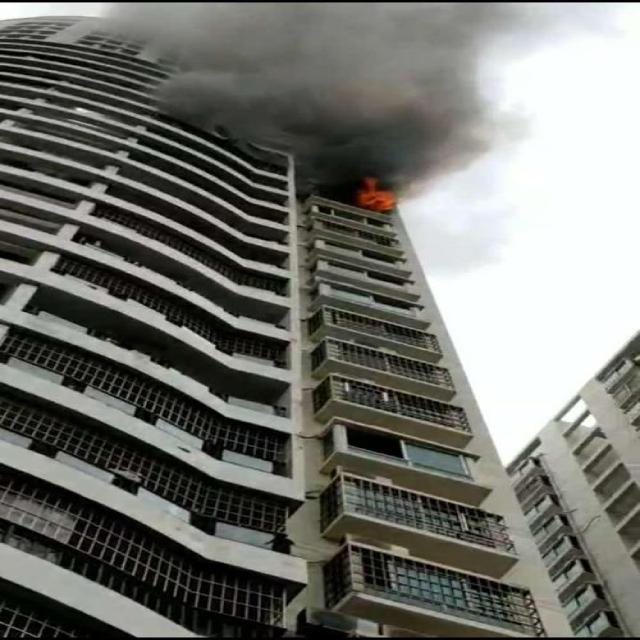Fire: (348, 176, 408, 212)
Smoke: (108, 0, 524, 175)
